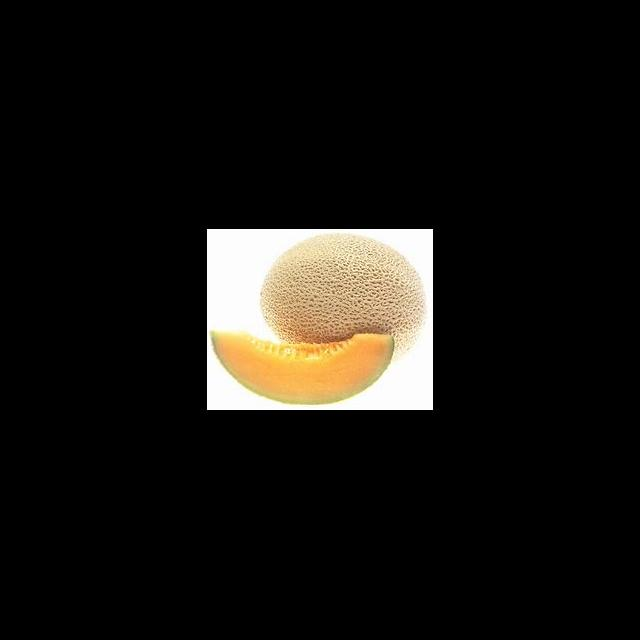Hami Melon: (262, 235, 427, 362), (210, 331, 393, 405)
